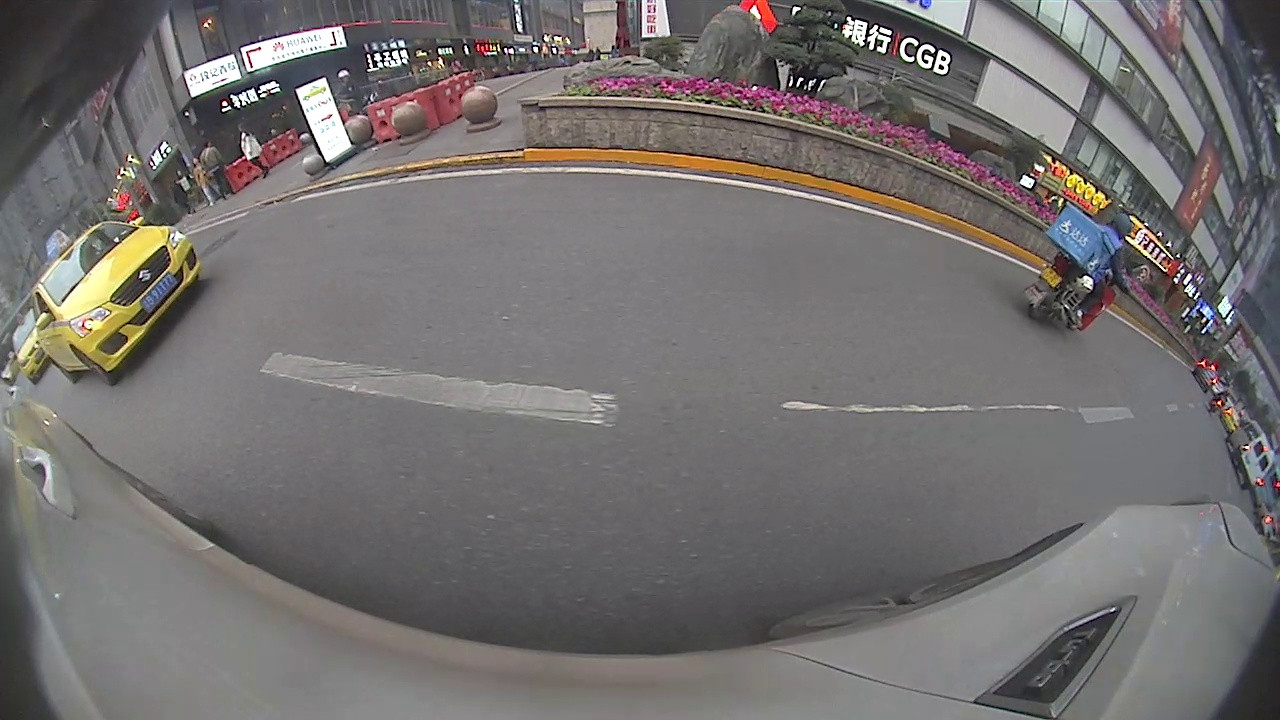car: (30, 221, 202, 383), (1223, 418, 1273, 488)
front: (71, 348, 114, 386)
rider: (1023, 202, 1130, 333)
